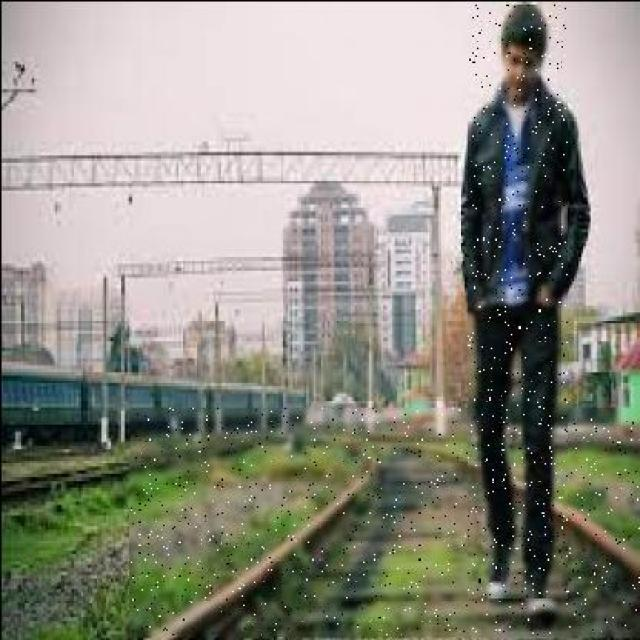danger: (466, 3, 566, 597)
rail: (132, 407, 638, 634)
